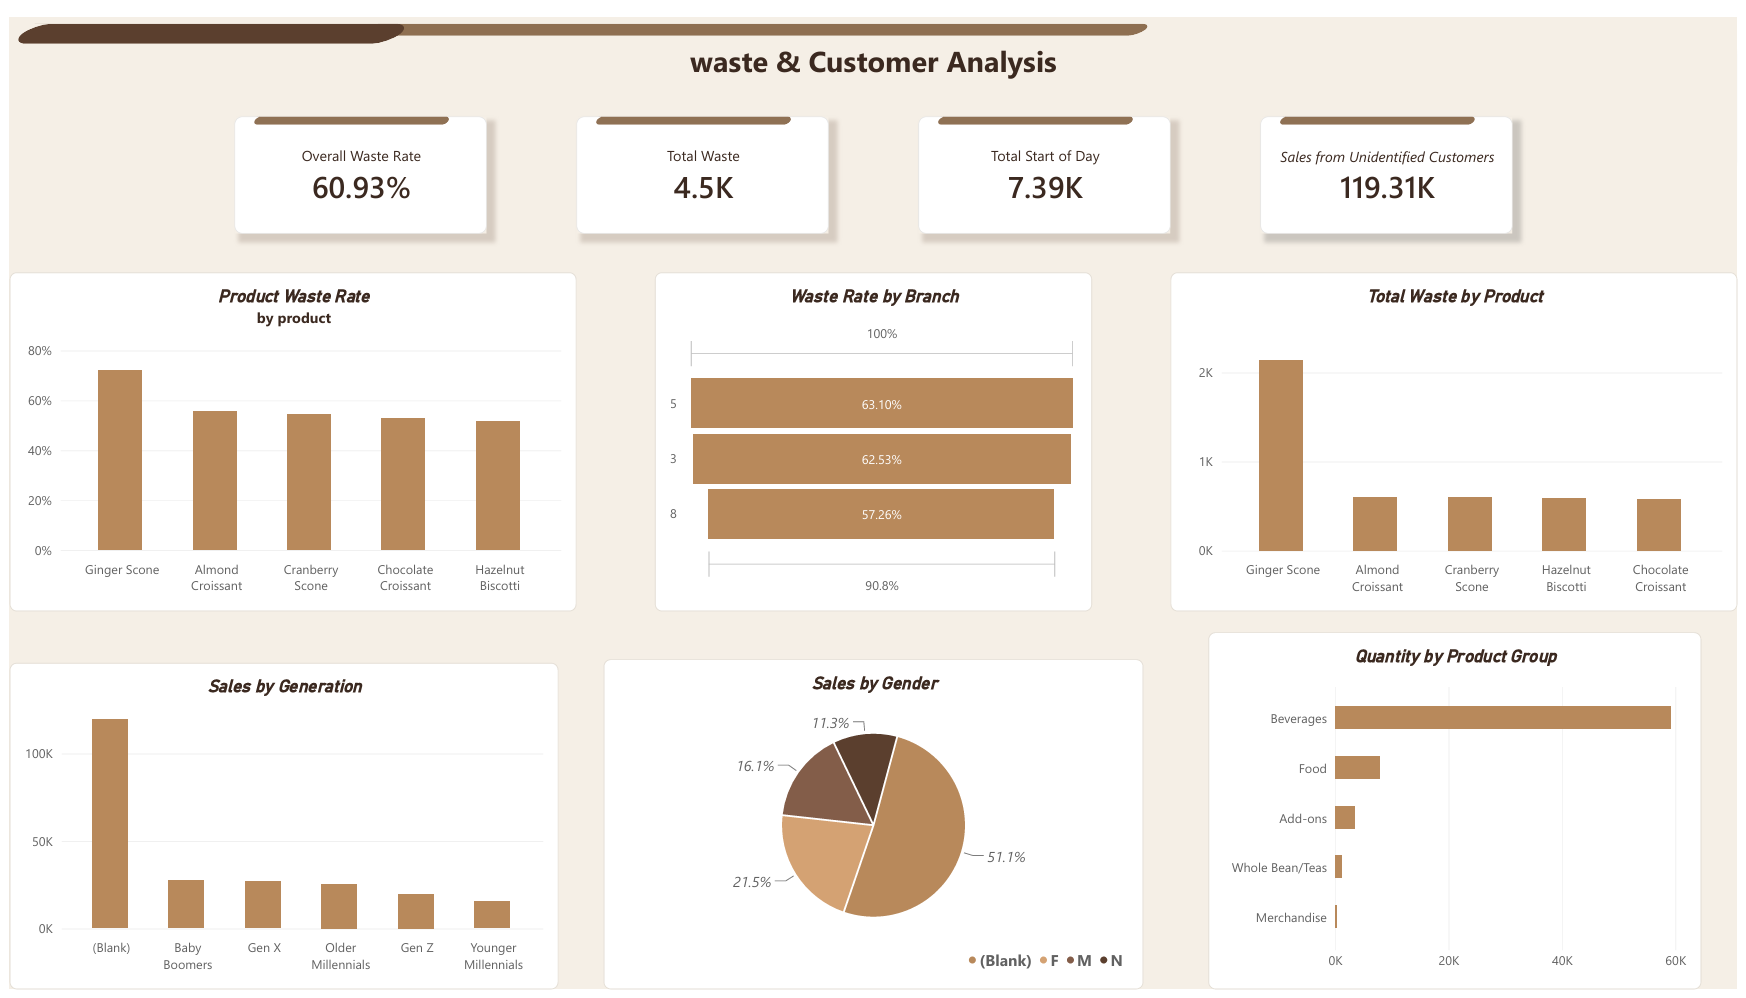

Layout of this report page (visuals, bound fields, positions):
{"tool":"powerbi","page":{"name":"waste & Customer Analysis","canvas":[1920,1080],"ordinal":1},"visuals":[{"type":"funnel","title":"Waste Rate by Branch","fields":{"Category":["pastry inventory.sales_outlet_id"],"Y":["pastry inventory.Overall Waste Rate"]},"box":[716.7,283.3,486.7,376.7],"z":0},{"type":"cardVisual","fields":{"Data":["pastry inventory.Total Waste"]},"box":[630,110,280,130],"z":2},{"type":"cardVisual","fields":{"Data":["pastry inventory.Total Start of Day"]},"box":[1010,110,280,130],"z":3},{"type":"cardVisual","fields":{"Data":["pastry inventory.Waste Rate"]},"box":[250,110,280,130],"z":4},{"type":"clusteredColumnChart","title":"Total Waste by Product","fields":{"Category":["product.product"],"Y":["pastry inventory.Total Waste"]},"box":[1290,283.3,630,376.7],"z":5},{"type":"clusteredColumnChart","fields":{"Category":["product.product"],"Y":["pastry inventory.Product Waste Rate"]},"box":[0,283.3,630,376.7],"z":6},{"type":"pieChart","title":"Sales by Gender","fields":{"Category":["customer.gender"],"Y":["201904 sales reciepts.Total Sales"]},"box":[660,713.3,600,366.7],"z":7},{"type":"clusteredColumnChart","title":"Sales by Generation","fields":{"Category":["generations.generation"],"Y":["201904 sales reciepts.Total Sales"]},"box":[0,716.7,610,363.3],"z":8},{"type":"cardVisual","fields":{"Data":["201904 sales reciepts.Sales Customer ID 0"]},"box":[1390,110,280,130],"z":9},{"type":"clusteredBarChart","title":"Quantity by Product Group","fields":{"Category":["product.product_group"],"Y":["201904 sales reciepts.Total Quantity"]},"box":[1331.7,683.3,548.3,396.7],"z":10},{"type":"shape","box":[270,110,220,12],"z":11},{"type":"shape","box":[650,110,220,12],"z":12},{"type":"shape","box":[1030,110,220,12],"z":13},{"type":"shape","box":[1410,110,220,12],"z":14},{"type":"shape","box":[393.3,7,876.7,16],"z":15},{"type":"shape","box":[0,7,448.3,25],"z":16},{"type":"textbox","box":[743.3,25,433.3,48.3],"z":17}]}

Visuals, with their boxes in screenshot pixels (x1, y1, x2, y2), scaled from the page's 1920x1080 canvas onto the 1746x998 screenshot:
"Waste Rate by Branch" funnel: bbox=[652, 262, 1094, 610]
cardVisual - pastry inventory.Total Waste: bbox=[573, 102, 828, 222]
cardVisual - pastry inventory.Total Start of Day: bbox=[918, 102, 1173, 222]
cardVisual - pastry inventory.Waste Rate: bbox=[227, 102, 482, 222]
"Total Waste by Product" clusteredColumnChart: bbox=[1173, 262, 1745, 610]
clusteredColumnChart - product.product x pastry inventory.Product Waste Rate: bbox=[0, 262, 573, 610]
"Sales by Gender" pieChart: bbox=[600, 659, 1146, 997]
"Sales by Generation" clusteredColumnChart: bbox=[0, 662, 555, 997]
cardVisual - 201904 sales reciepts.Sales Customer ID 0: bbox=[1264, 102, 1519, 222]
"Quantity by Product Group" clusteredBarChart: bbox=[1211, 631, 1710, 997]
shape: bbox=[246, 102, 446, 113]
shape: bbox=[591, 102, 791, 113]
shape: bbox=[937, 102, 1137, 113]
shape: bbox=[1282, 102, 1482, 113]
shape: bbox=[358, 6, 1155, 21]
shape: bbox=[0, 6, 408, 30]
textbox: bbox=[676, 23, 1070, 68]
